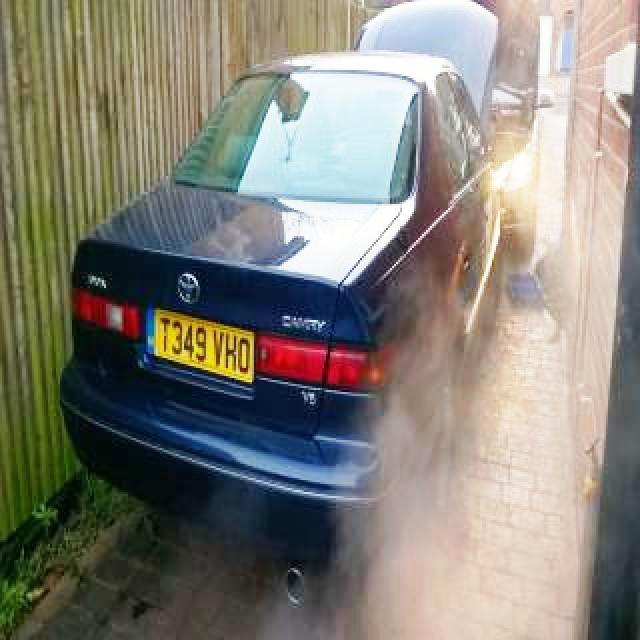license_plate: (141, 301, 263, 392)
